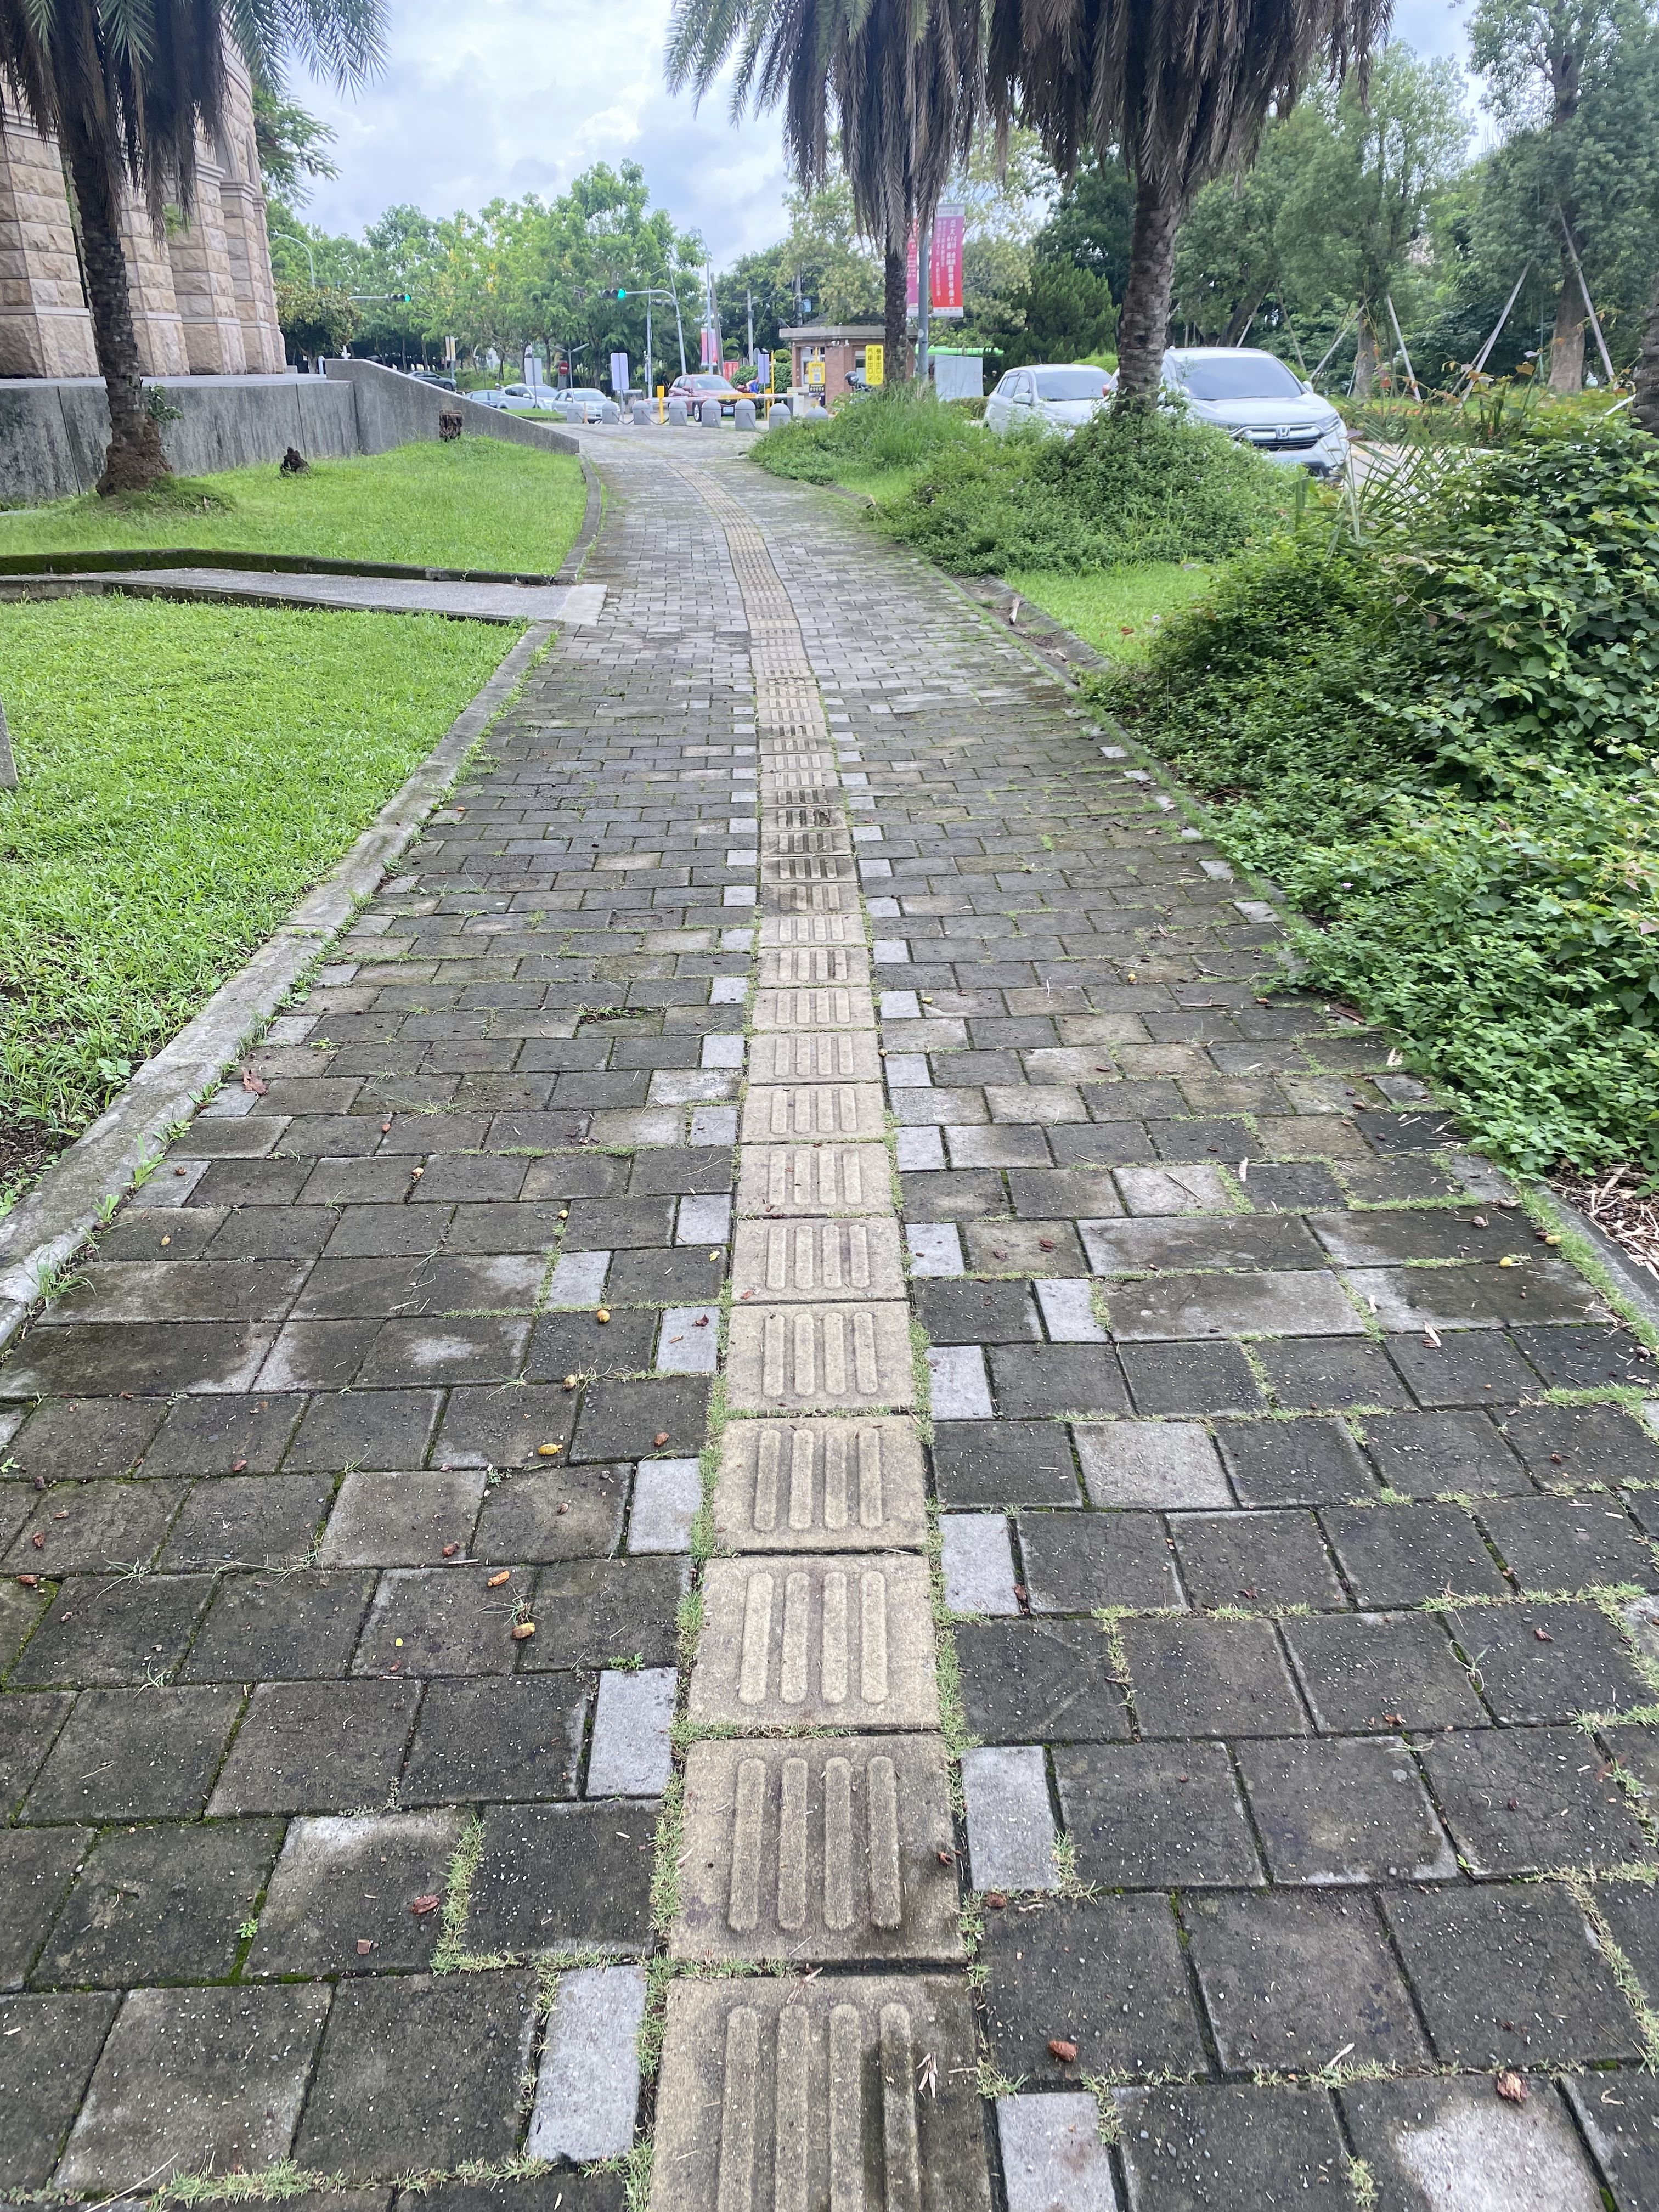0: (7, 674, 1659, 2212)
sidewalk: (535, 388, 1176, 1507)
